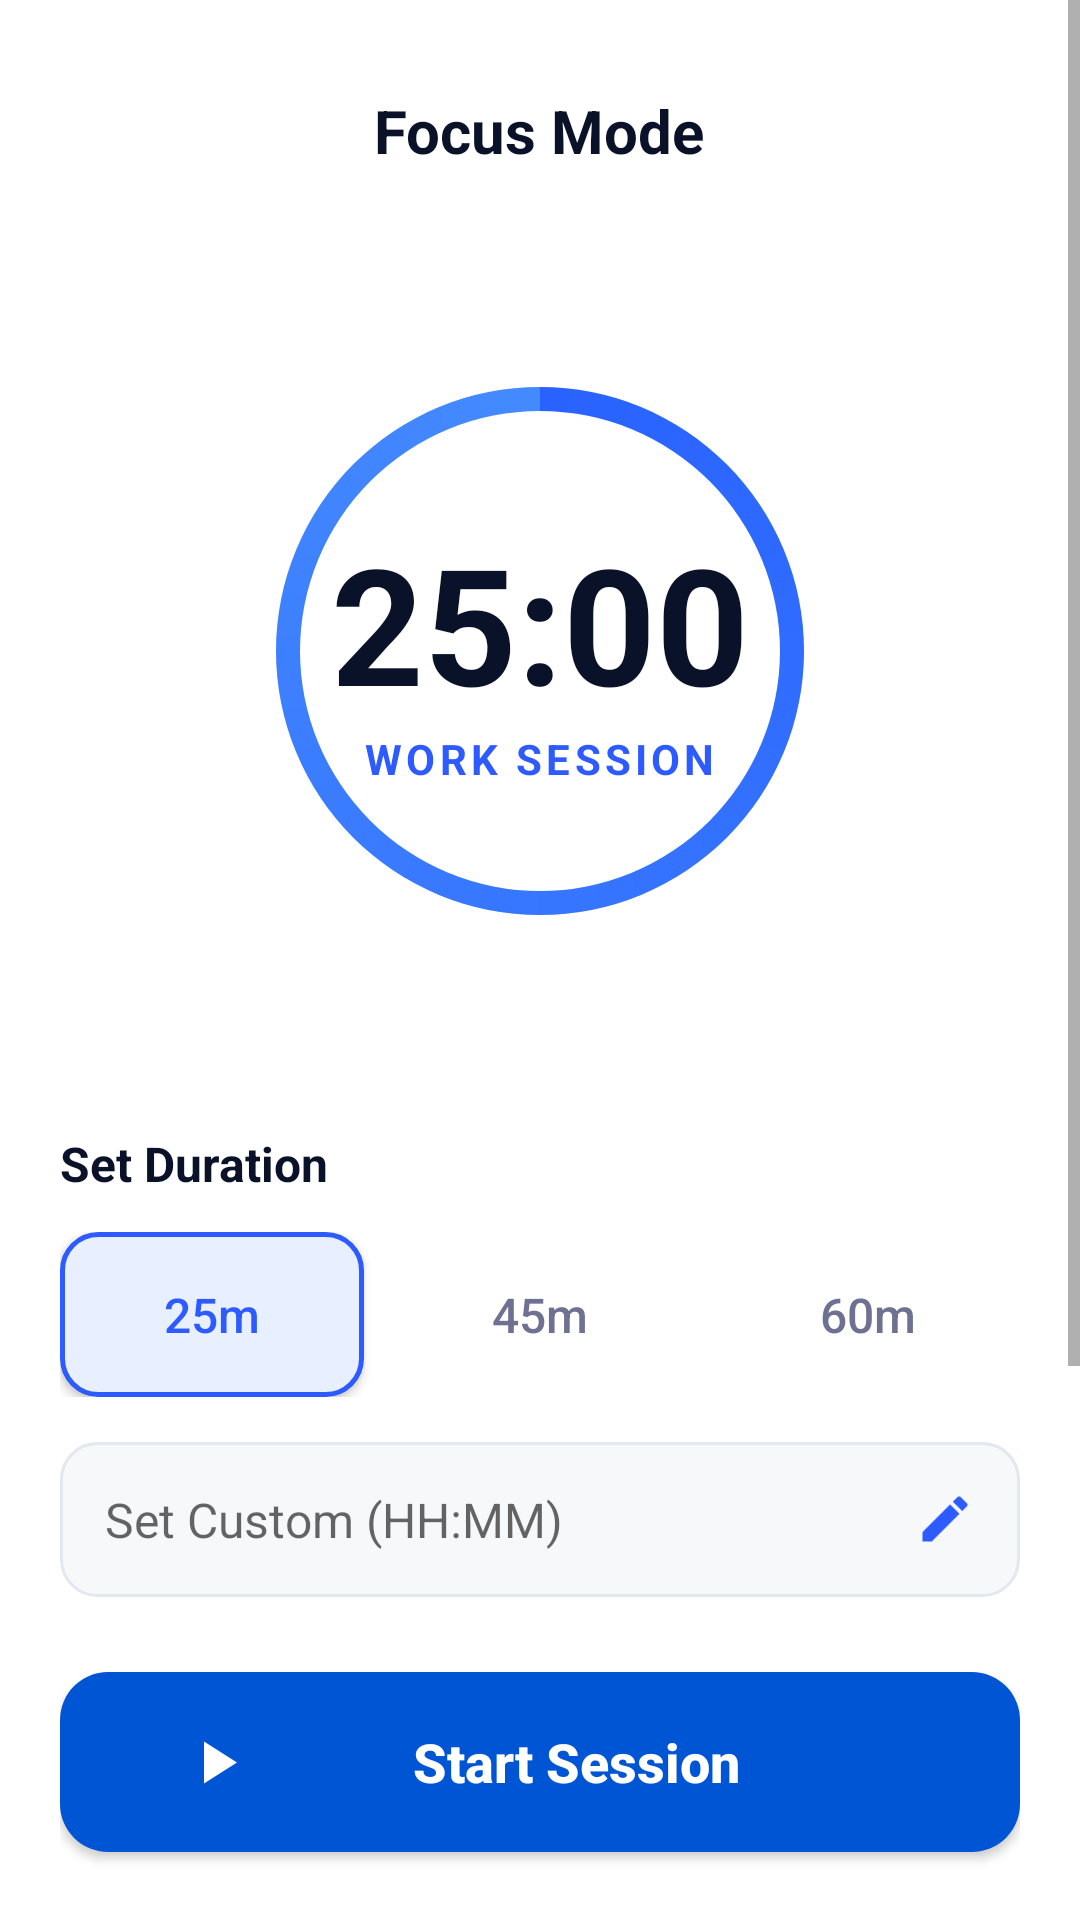

Locate icon controls on the screen. Image size 1080w x 1920h, boxes as (x1, y1, x2, y2).
edit: (922, 1496, 968, 1542)
